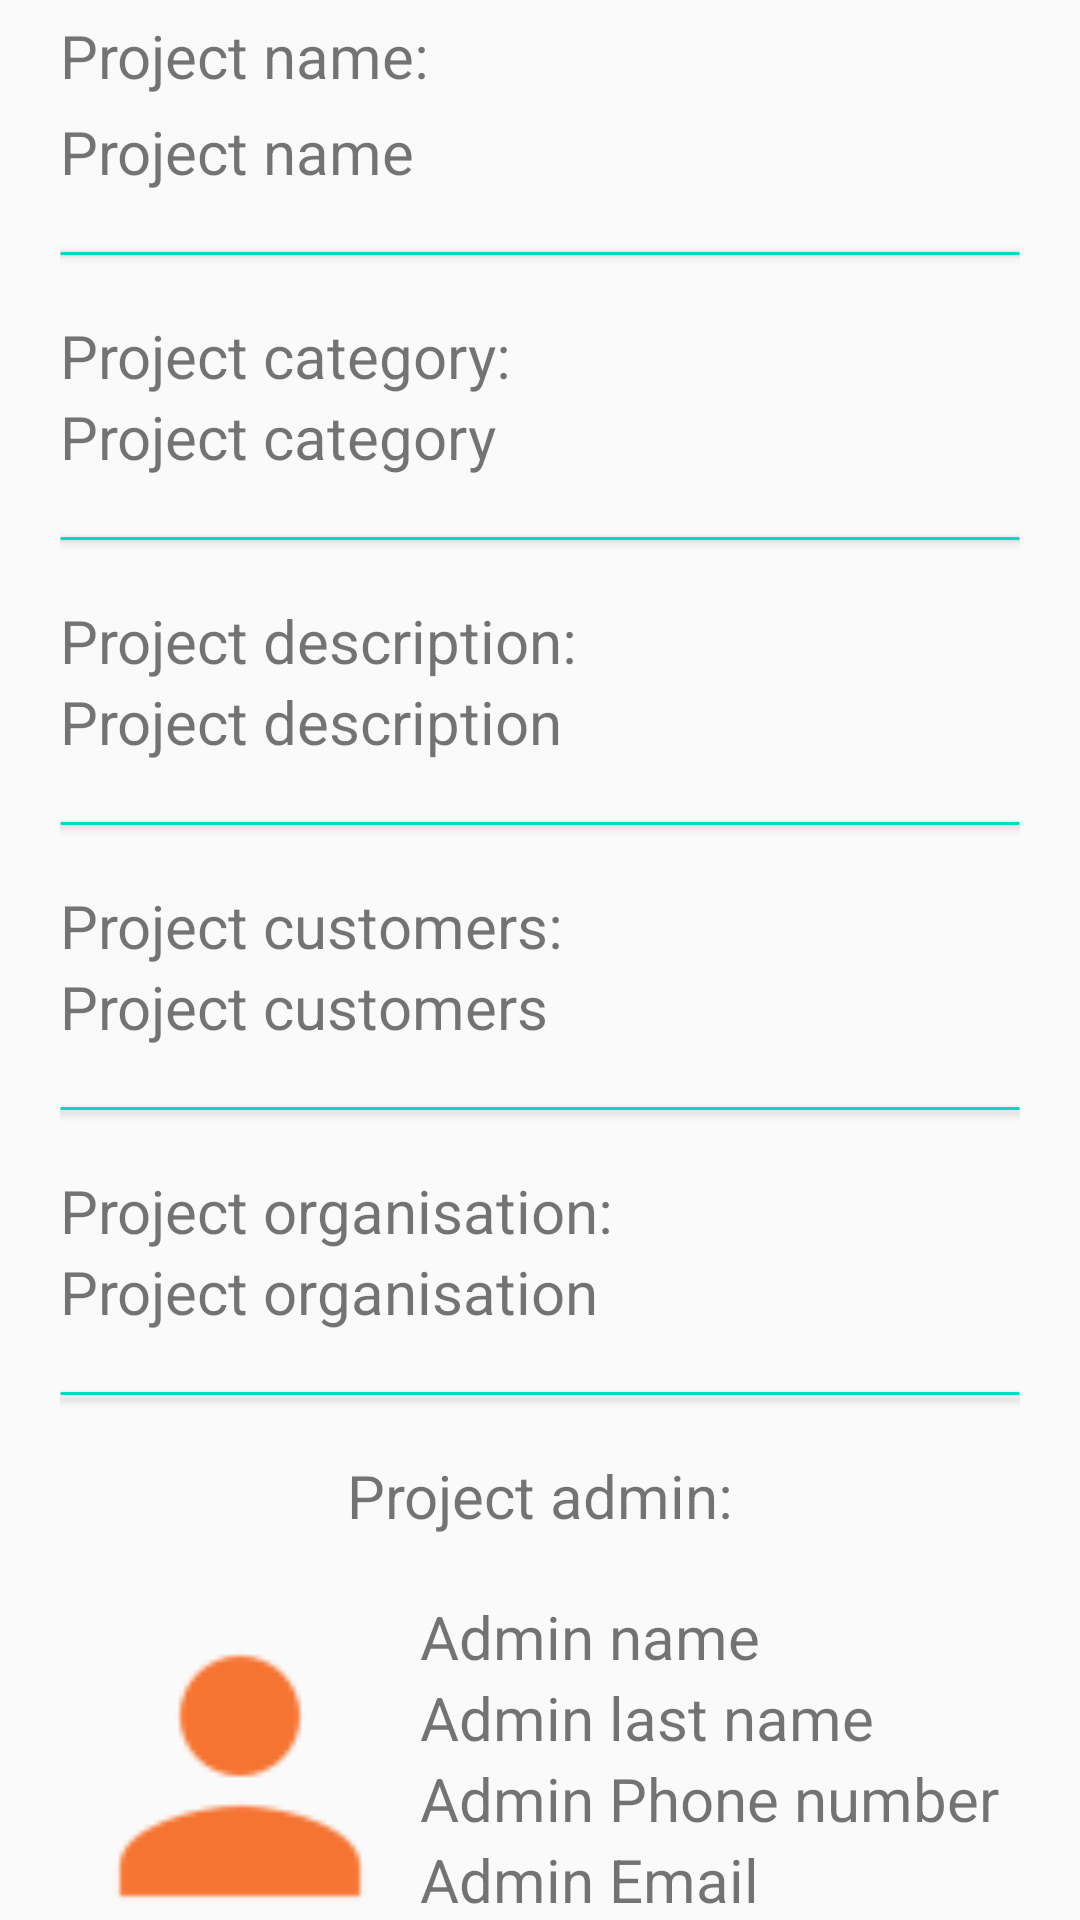

Icon bounding boxes for this 1080x1920 phone screenshot, format (x1, y1, x2, y2):
person: (118, 1654, 362, 1898)
